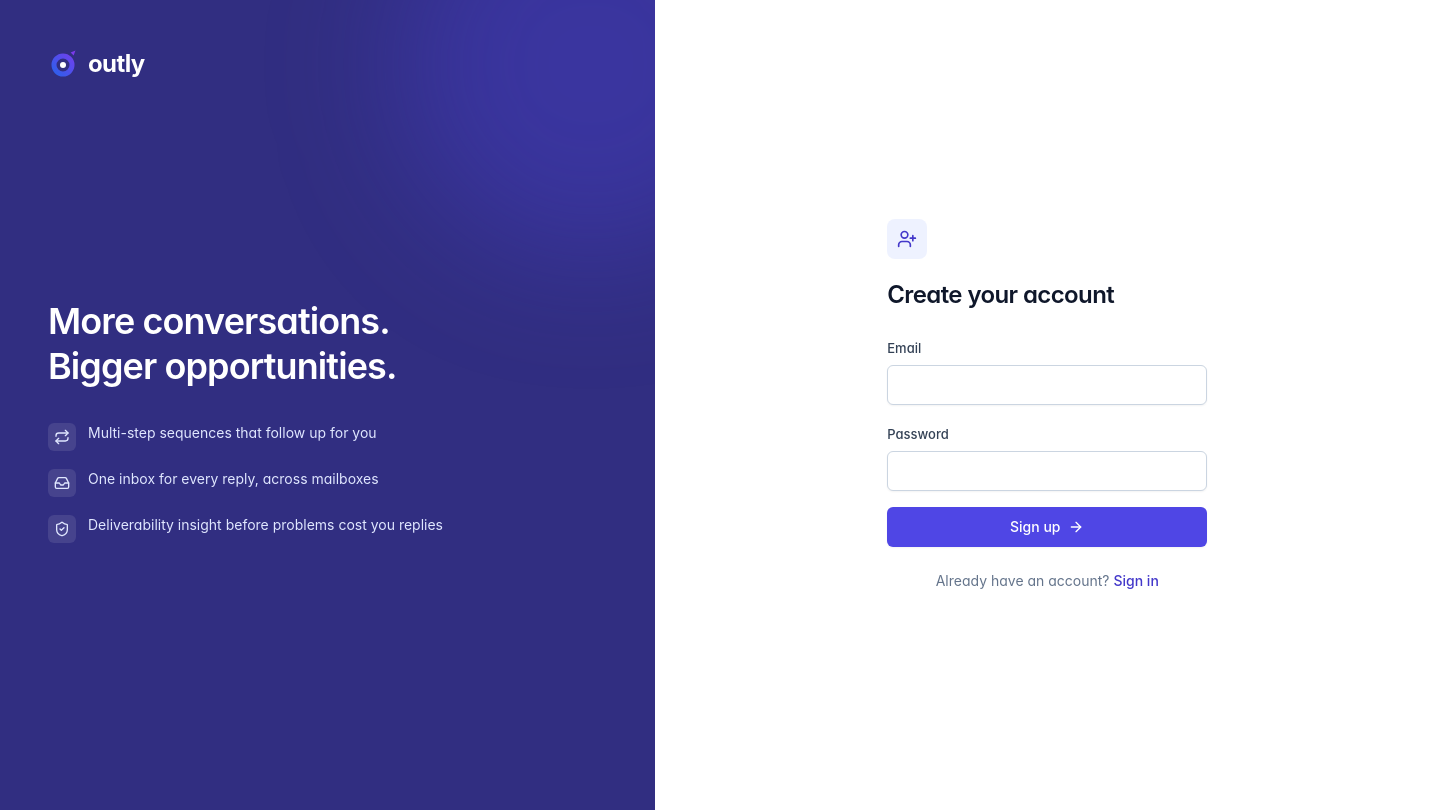
Test: SignupPage › shows the same generic success message whether or not the account already exists
Type "existing@example.com" into the field labelled "Email". click: (1047, 385)
box: [887,365,1207,405]
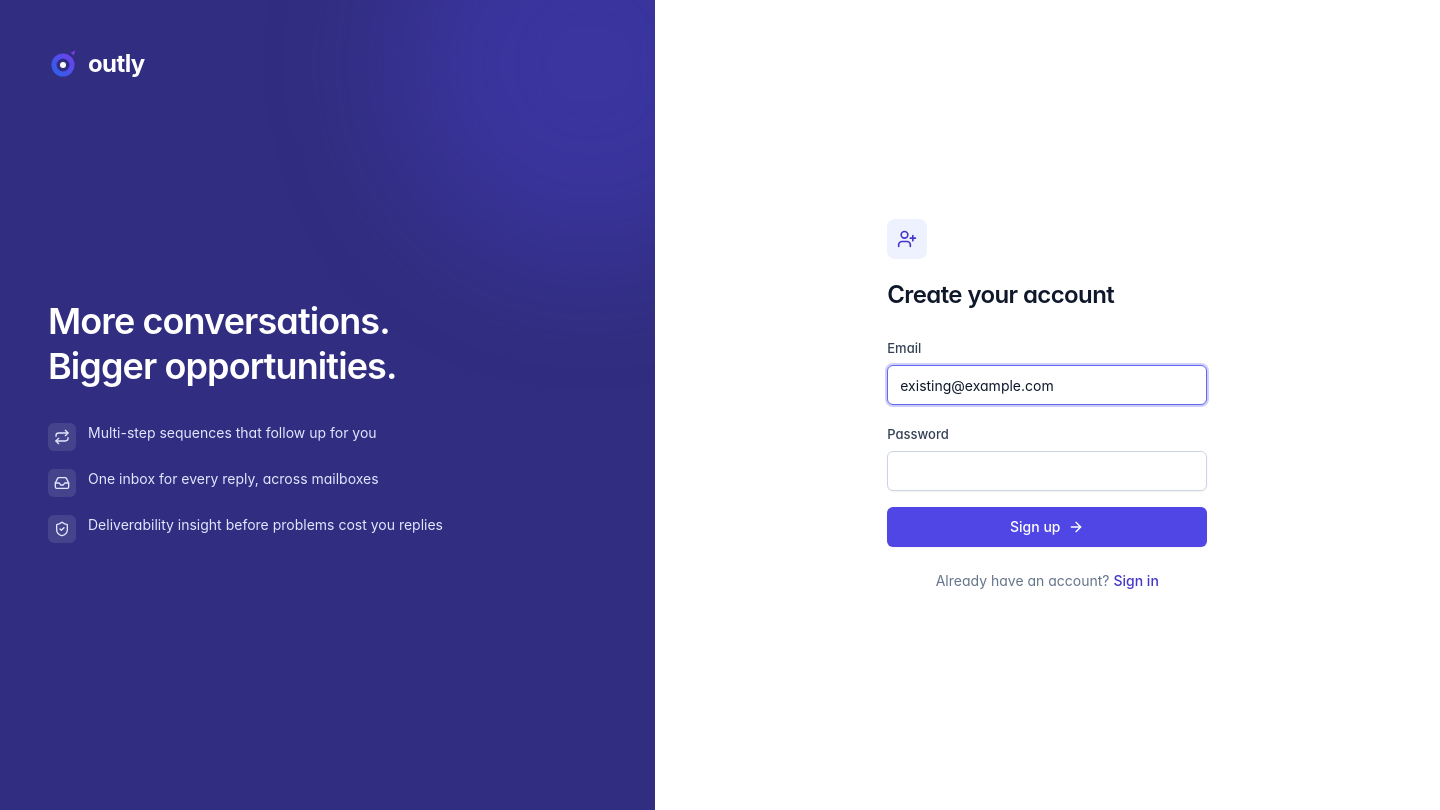
Type "longenoughpassword" into the password field labelled "Password". click: (1047, 471)
box: [887,451,1207,491]
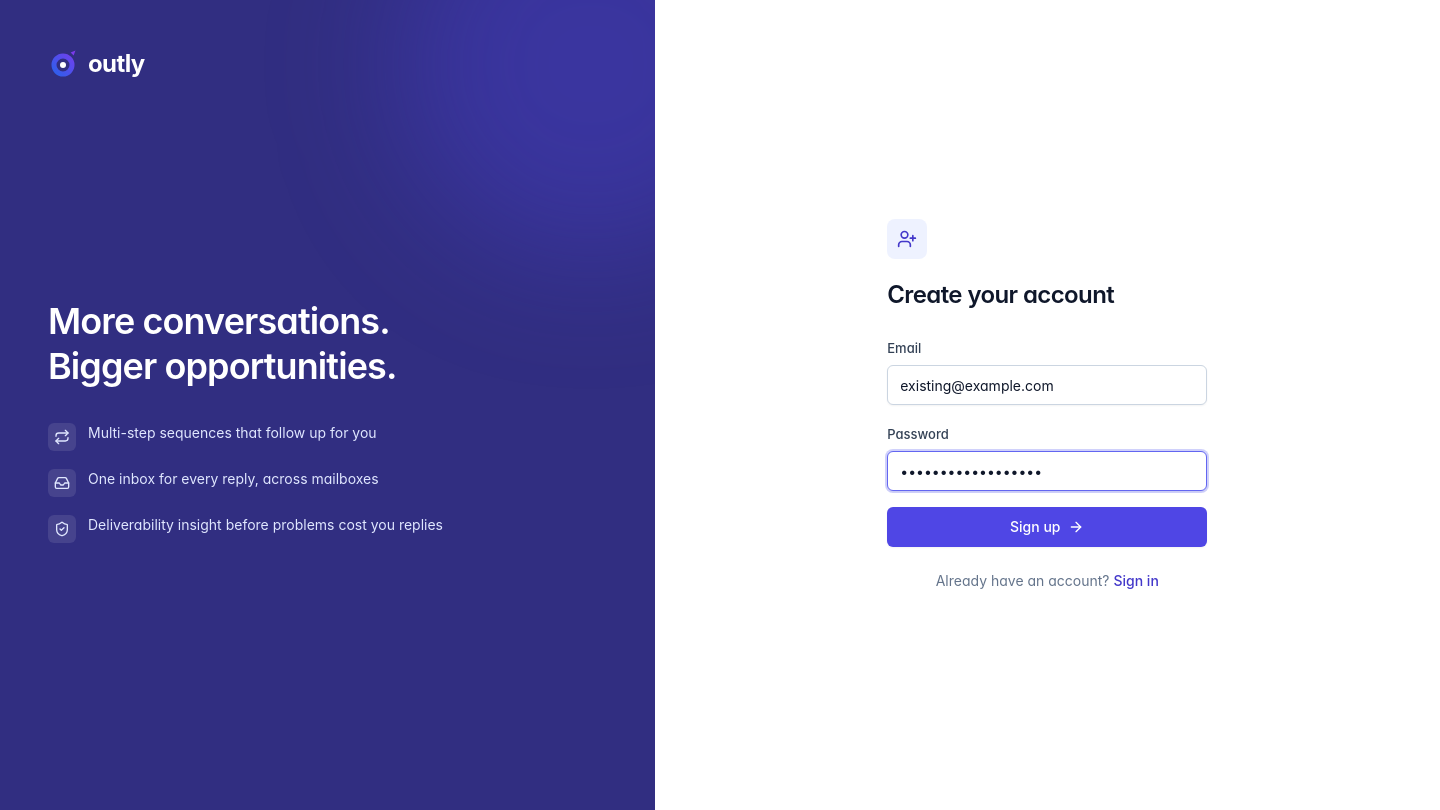
Click the button "Sign up". click: click(1047, 527)
box: [887,507,1207,547]
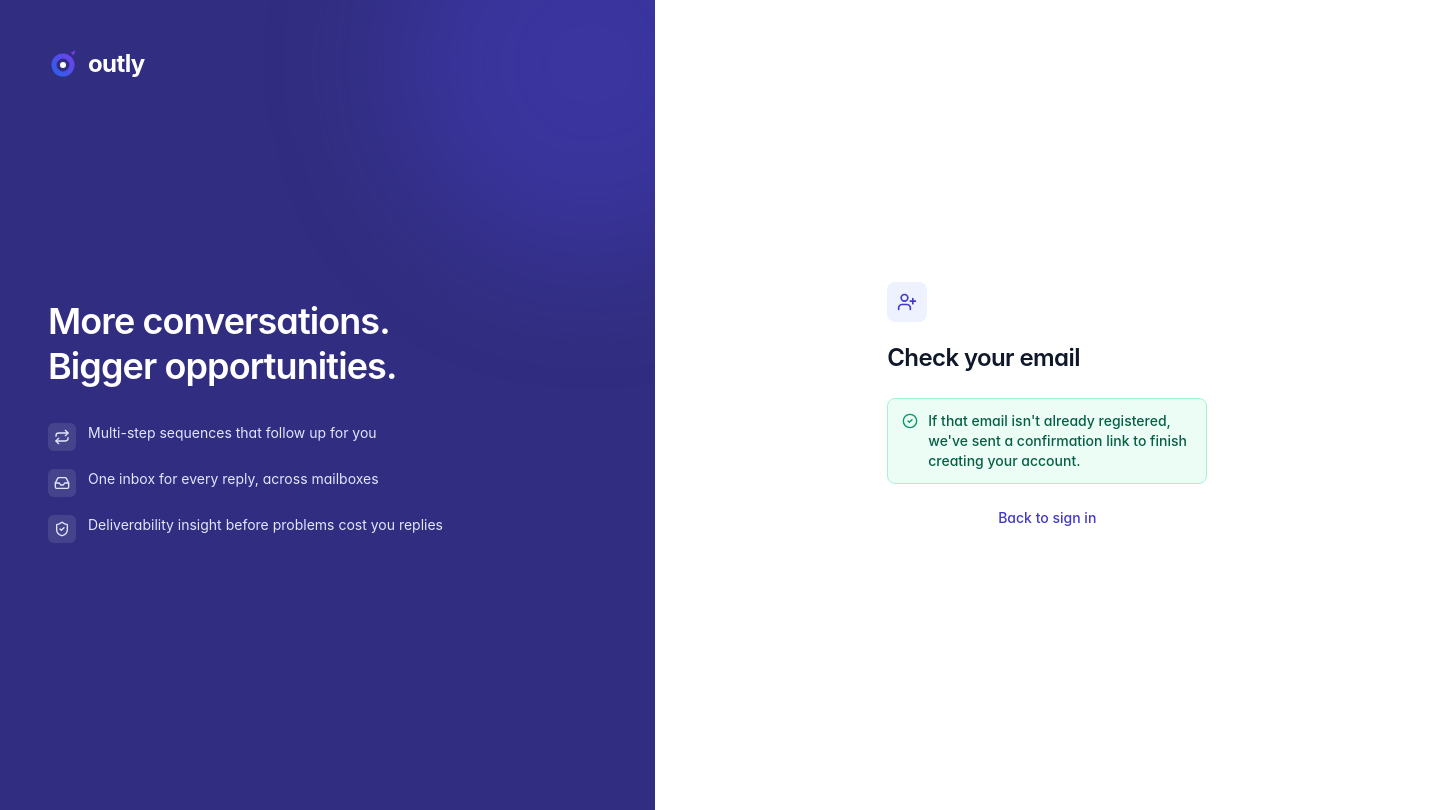
Now the heading "Check your email" is shown, box [887,343,1080,372]
